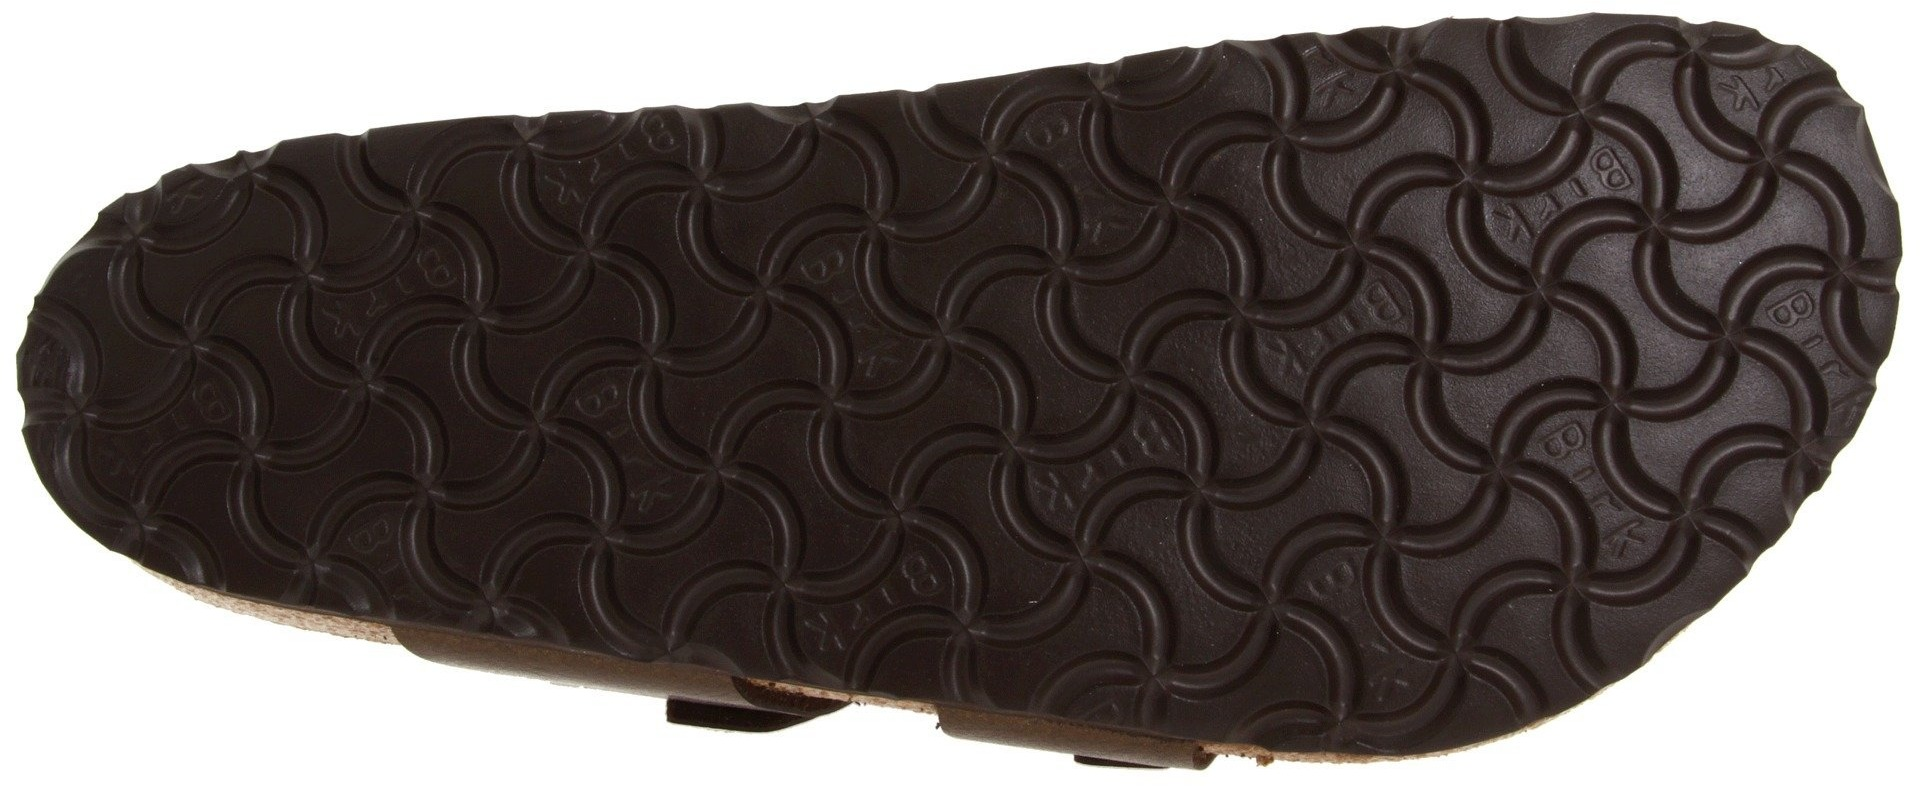bowtie: (328, 131, 771, 619), (1382, 24, 1727, 403), (1142, 406, 1512, 713), (775, 398, 1135, 686), (1078, 69, 1378, 395), (775, 104, 1067, 387), (66, 280, 322, 515), (1517, 408, 1709, 605)
text: (328, 131, 771, 619), (1382, 24, 1727, 403), (1142, 406, 1512, 713), (775, 398, 1135, 686), (1078, 69, 1378, 395), (775, 104, 1067, 387), (66, 280, 322, 515)
